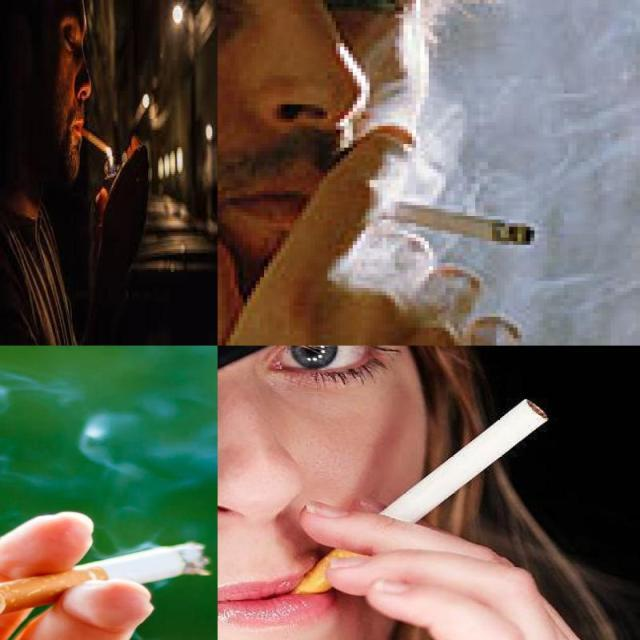smoking: (284, 398, 548, 606), (0, 542, 210, 618), (374, 194, 536, 248), (78, 126, 109, 155)
